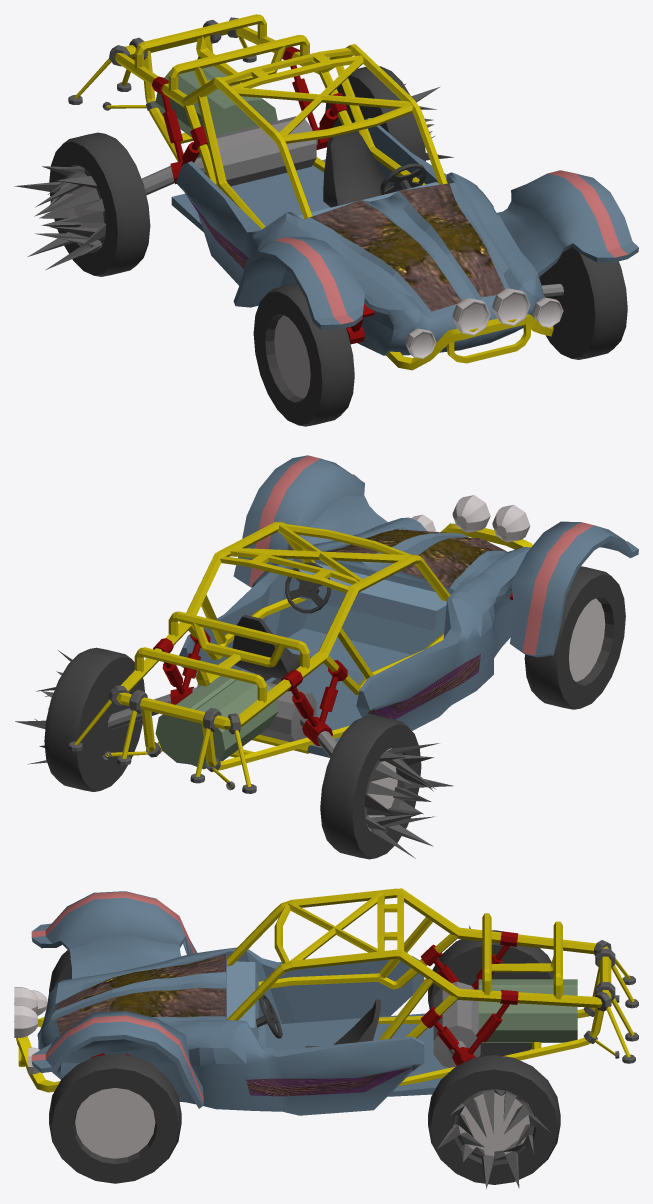
Rendered from Buggy.fbx.
3 renders of one model, top to bottom at view 1: azimuth 30°, elevation 25°; view 2: azimuth 150°, elevation 25°; view 3: azimuth 270°, elevation 25°, orthographic. The views are drawn at different scales.
Parts seen in each view (by area): view 1: BuggyBody, Wheel1_Geo, Wheel3_Geo, Wheel4_Geo, Wheel2_Geo; view 2: BuggyBody, Wheel1_Geo, Wheel2_Geo, Wheel3_Geo; view 3: BuggyBody, Wheel2_Geo, Wheel4_Geo, Wheel1_Geo, Wheel3_Geo.
Part boxes in pixels (left/top/right/bottom): BuggyBody: left=68, top=14, right=638, bottom=370; Wheel1_Geo: left=14, top=132, right=150, bottom=276; Wheel3_Geo: left=253, top=283, right=354, bottom=426; Wheel4_Geo: left=539, top=247, right=627, bottom=359; Wheel2_Geo: left=325, top=66, right=453, bottom=161; BuggyBody: left=68, top=455, right=638, bottom=793; Wheel1_Geo: left=320, top=715, right=453, bottom=859; Wheel2_Geo: left=15, top=647, right=144, bottom=791; Wheel3_Geo: left=524, top=566, right=625, bottom=709; BuggyBody: left=14, top=888, right=638, bottom=1115; Wheel2_Geo: left=428, top=1055, right=560, bottom=1189; Wheel4_Geo: left=49, top=1053, right=181, bottom=1183; Wheel1_Geo: left=428, top=925, right=553, bottom=1056; Wheel3_Geo: left=49, top=950, right=71, bottom=993.
Size of what is drawn, in the model's own units: 1.78 by 0.8954 by 2.58.
